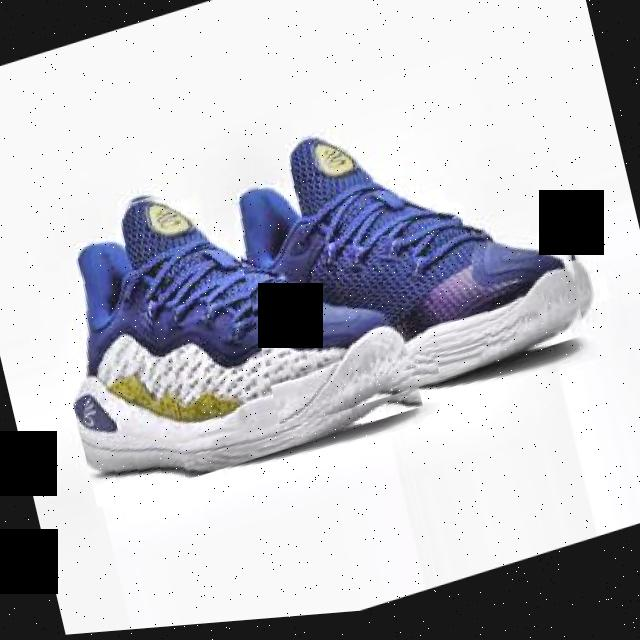shoe: (31, 125, 432, 513), (218, 69, 600, 438)
